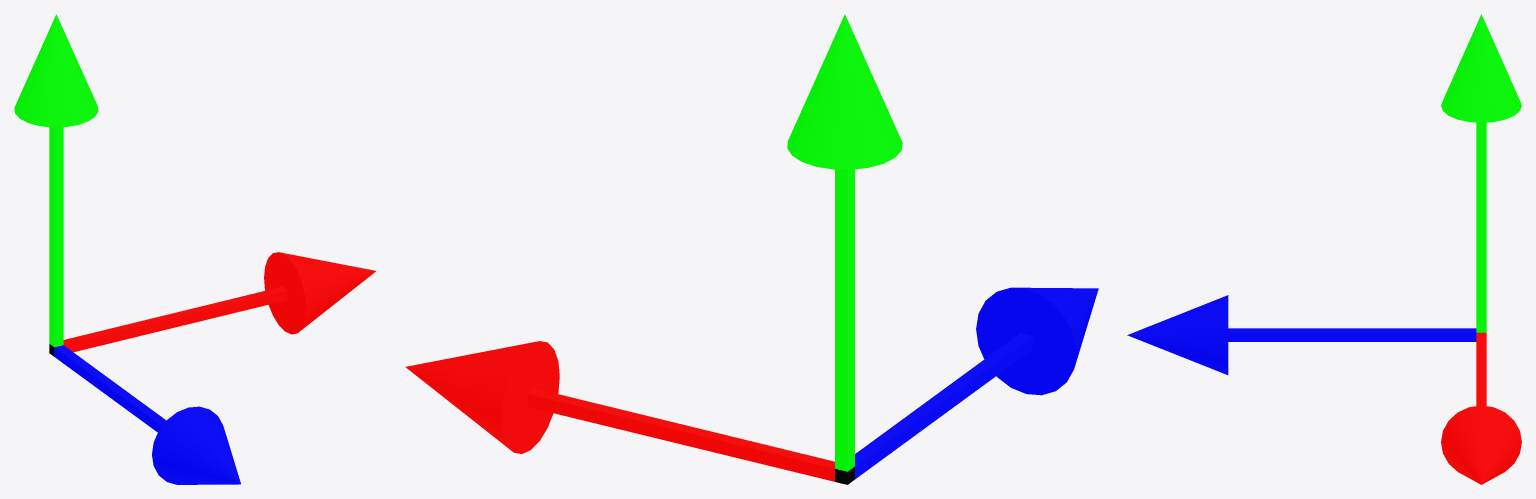
The model's file is Tablet_Widgets.fbx.
3 views of the same model, side by side, from view 1: azimuth 30°, elevation 25°; view 2: azimuth 150°, elevation 25°; view 3: azimuth 270°, elevation 25° (orthographic). The views are drawn at different scales.
Visible parts, largest first — view 1: Position_Widget, Position_Widget_2, Position_Widget_1; view 2: Position_Widget, Position_Widget_2, Position_Widget_1; view 3: Position_Widget_1, Position_Widget, Position_Widget_2.
Boxes of the visible parts, x1=… form: Position_Widget: x1=14, y1=14, x2=98, y2=356; Position_Widget_2: x1=63, y1=252, x2=375, y2=352; Position_Widget_1: x1=54, y1=345, x2=240, y2=484; Position_Widget: x1=787, y1=14, x2=902, y2=484; Position_Widget_2: x1=405, y1=341, x2=834, y2=481; Position_Widget_1: x1=855, y1=287, x2=1098, y2=479; Position_Widget_1: x1=1127, y1=295, x2=1476, y2=374; Position_Widget: x1=1441, y1=14, x2=1521, y2=332; Position_Widget_2: x1=1441, y1=332, x2=1521, y2=484.
Bounding box in the file's own units: 78 × 78 × 78.
